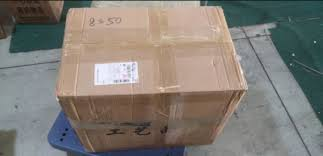undamaged: (55, 4, 250, 155)
